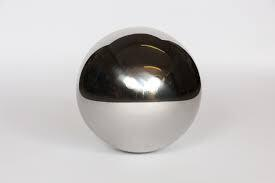steelball: (71, 21, 202, 156)
